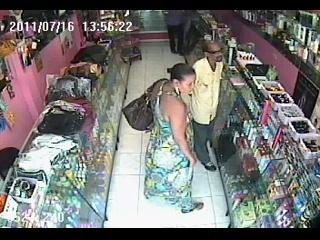Normal: (144, 63, 204, 214), (188, 40, 226, 172), (122, 78, 168, 131)
